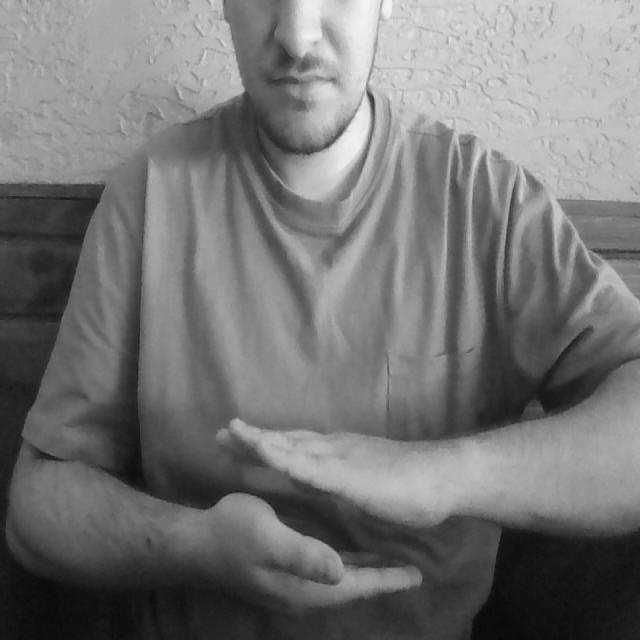Arkadas: (89, 393, 537, 612)
